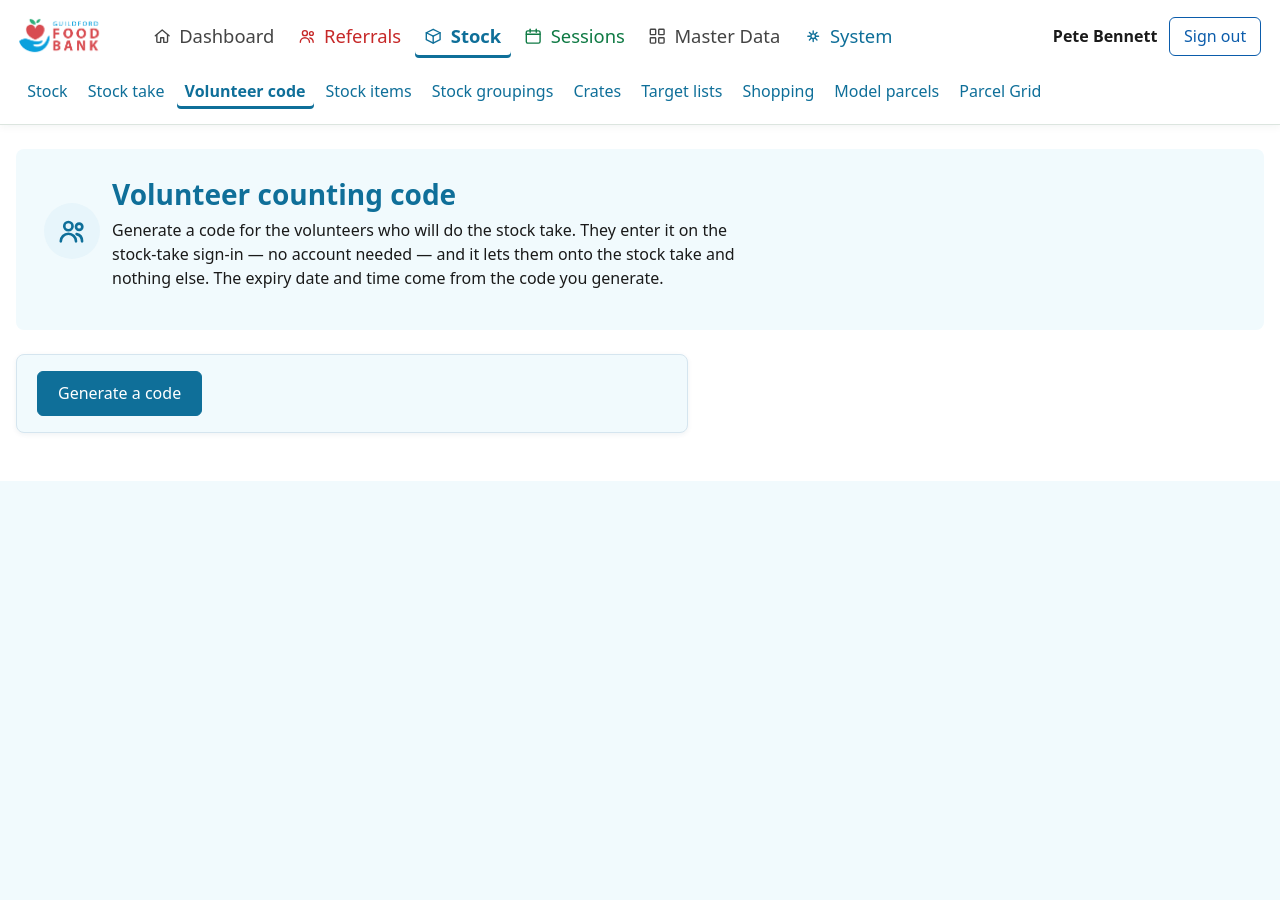
Test: the volunteer code screen › copies a WhatsApp-ready message with the purpose, code and expiry
Step 1. Click the button "Generate a code" → (120, 393), box [37,371,202,416]
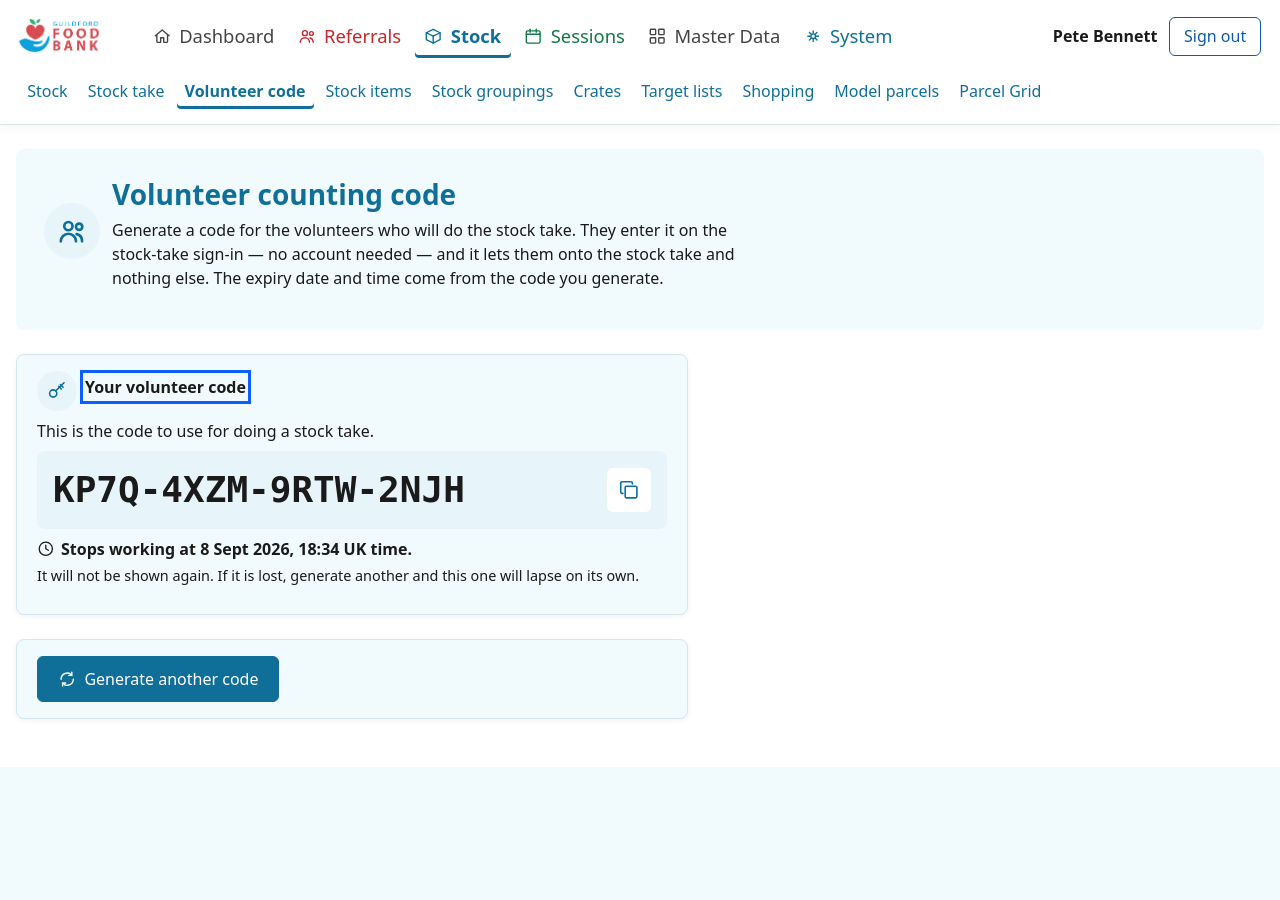
Expected: the text "KP7Q-4XZM-9RTW-2NJH" is shown, [53,463,465,517]
Step 2. Click the button named "Copy code and message" → (629, 490), box [607,468,651,512]
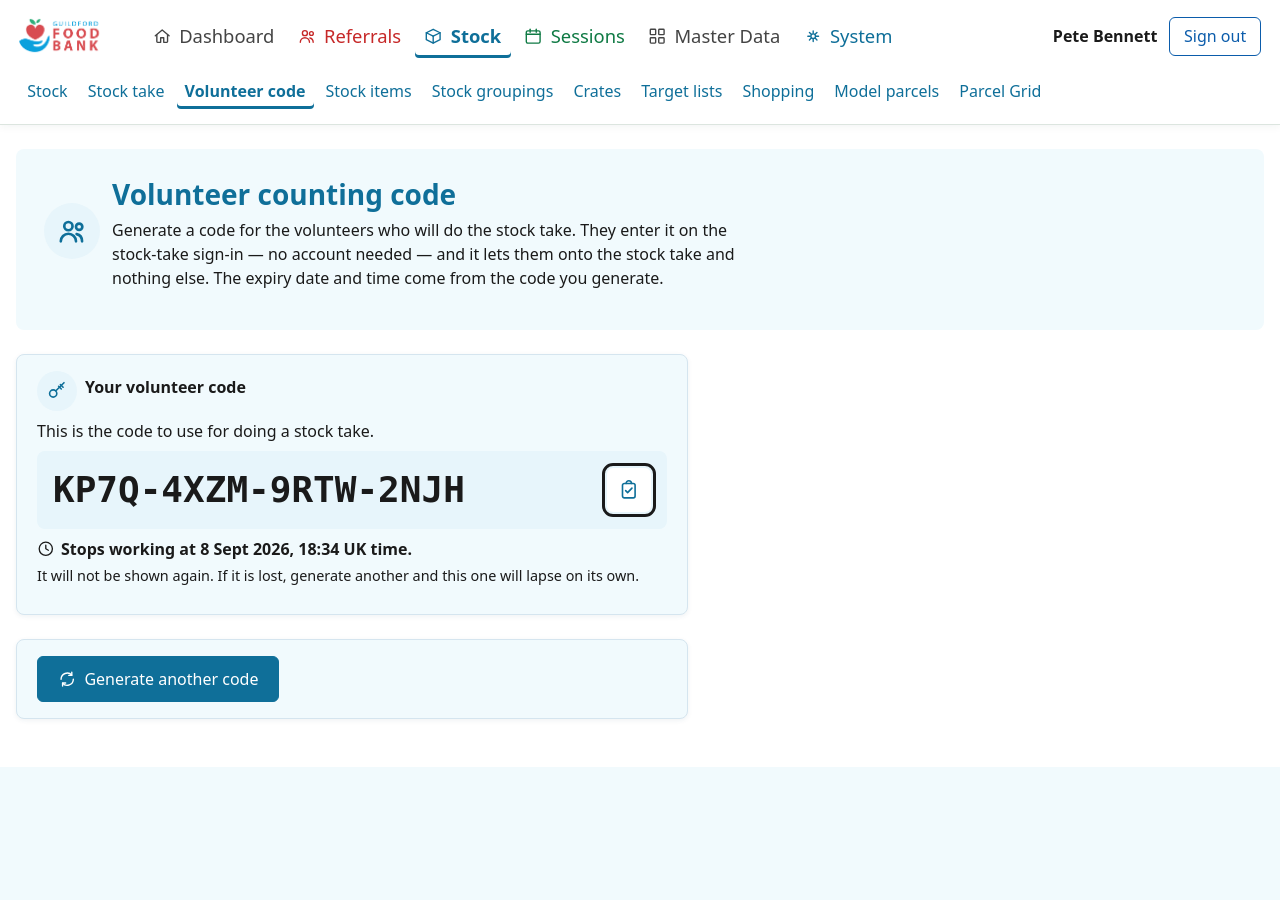
Expected: the button named "Code and message copied" is shown, [607,468,651,512]
